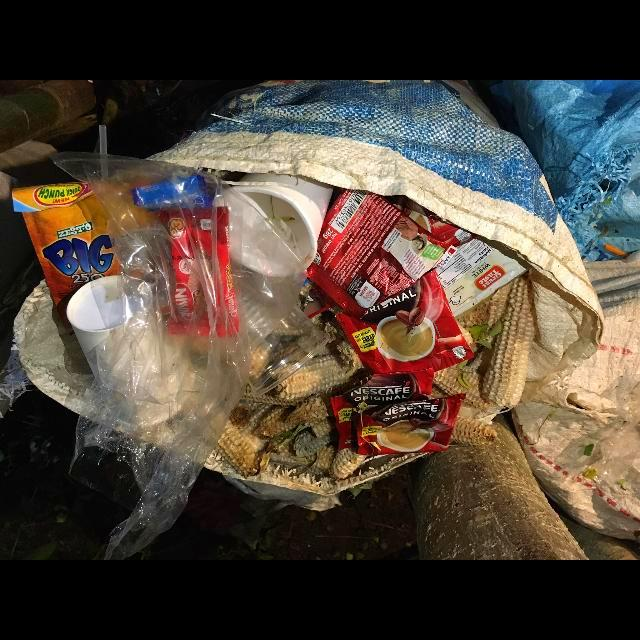food_wrapper: (159, 207, 239, 340)
left_over_food: (480, 271, 535, 411), (275, 353, 358, 401), (433, 360, 491, 409), (217, 424, 267, 479), (453, 413, 498, 452)
plastic_bag: (51, 152, 248, 560)
plastic_sachet: (308, 187, 456, 323), (382, 196, 526, 317), (12, 182, 123, 318), (335, 270, 475, 375), (331, 368, 434, 451), (358, 393, 466, 456)
